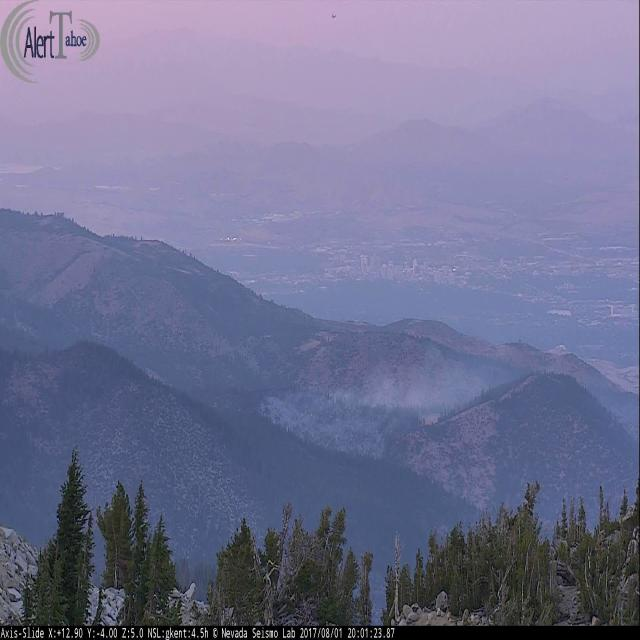smoke: (253, 341, 537, 461)
